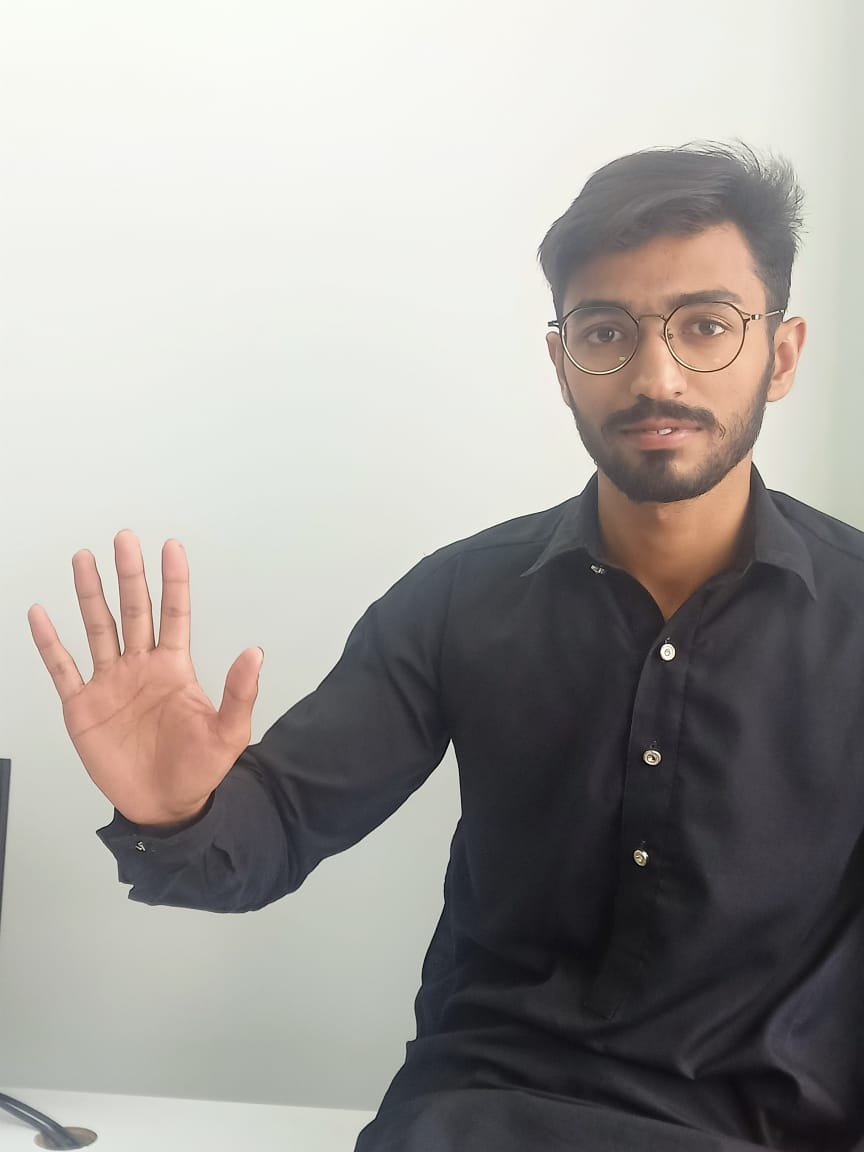Hello: (10, 523, 307, 841)
